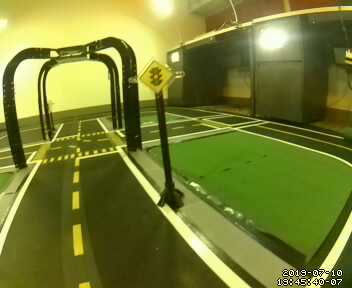Traffic light sign: (138, 58, 175, 93)
